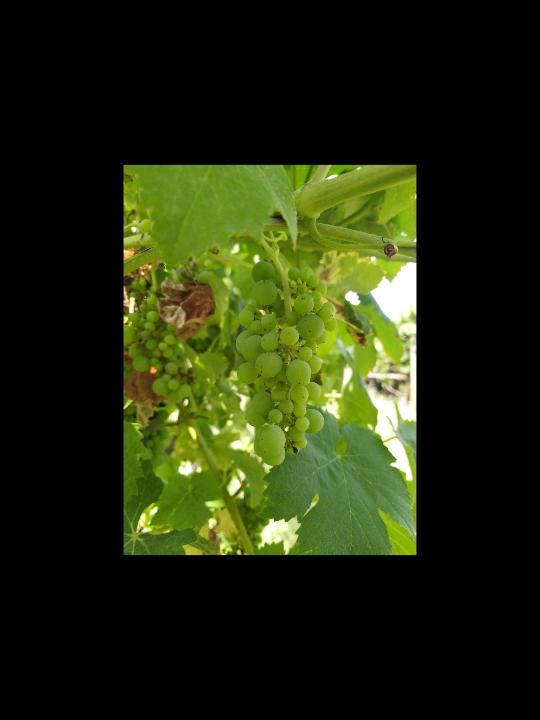grape: (231, 257, 339, 465)
